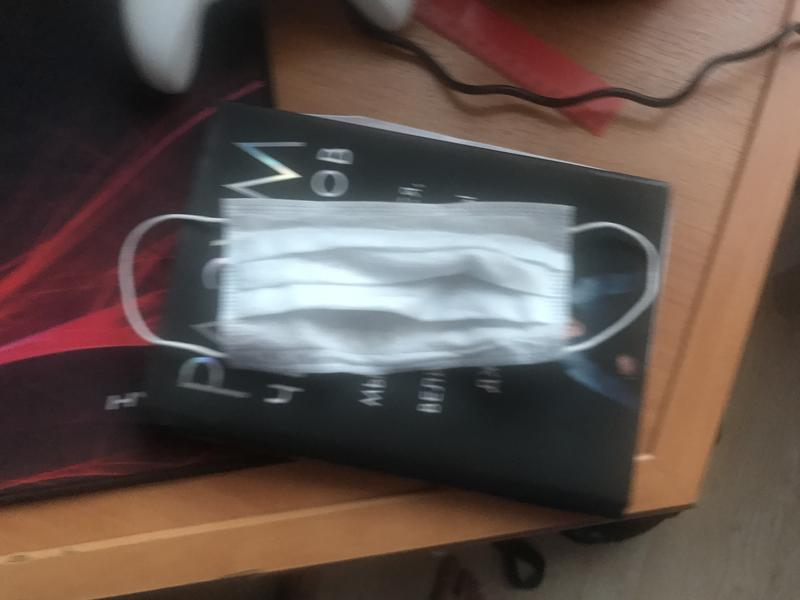medical_mask: (119, 200, 658, 374)
